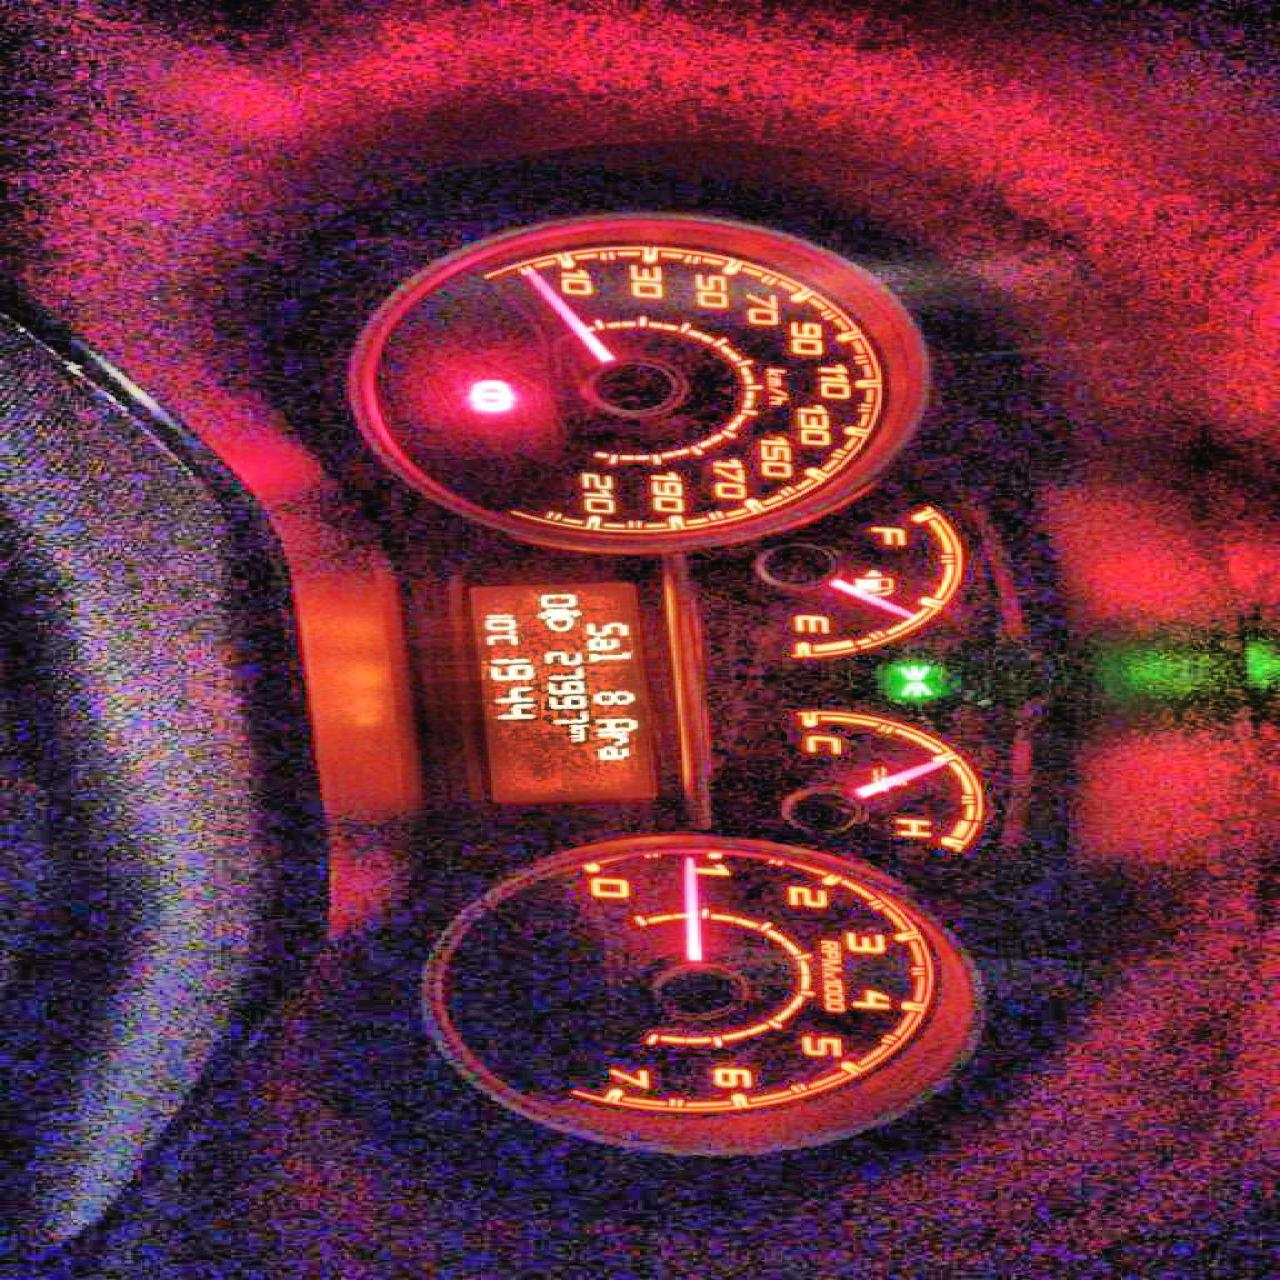0: (536, 592, 576, 607), (478, 618, 520, 628)
1: (481, 611, 518, 619), (482, 656, 531, 662)
2: (540, 648, 583, 666)
4: (493, 701, 533, 720), (493, 685, 533, 701)
7: (546, 708, 586, 723), (545, 665, 583, 678)
8: (588, 689, 635, 707)
9: (482, 663, 531, 681), (485, 663, 531, 680), (545, 694, 585, 710), (543, 679, 585, 694)
X: (580, 620, 651, 636), (591, 716, 638, 733), (585, 649, 635, 662), (591, 731, 629, 745), (591, 745, 629, 760), (580, 636, 618, 651), (478, 635, 520, 646), (561, 723, 591, 731), (565, 731, 585, 742)
odometer: (458, 578, 669, 806)
